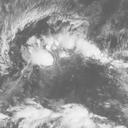cyclone: (19, 31, 109, 68)
